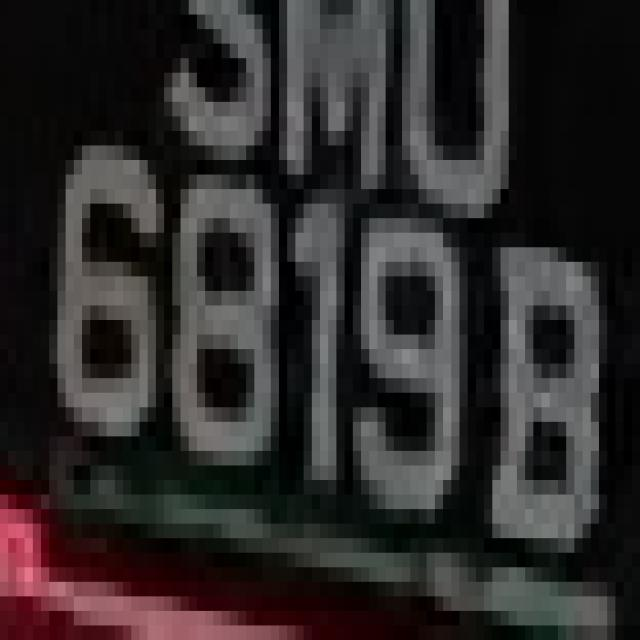1: (271, 160, 353, 509)
6: (58, 73, 172, 480)
8: (148, 131, 287, 494)
9: (336, 146, 476, 538)
B: (484, 174, 607, 596)
